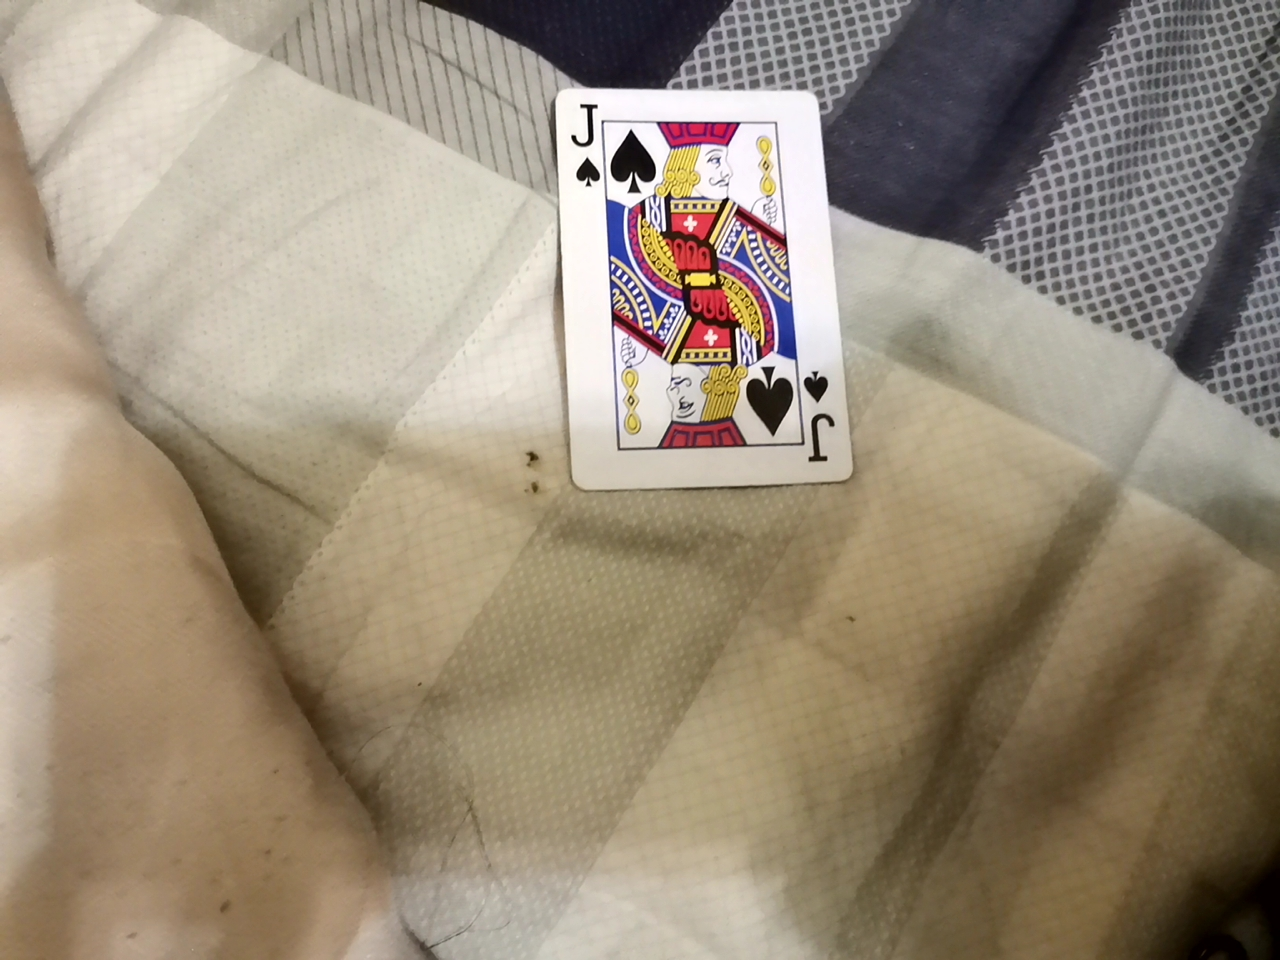ht j: (530, 74, 848, 490)
